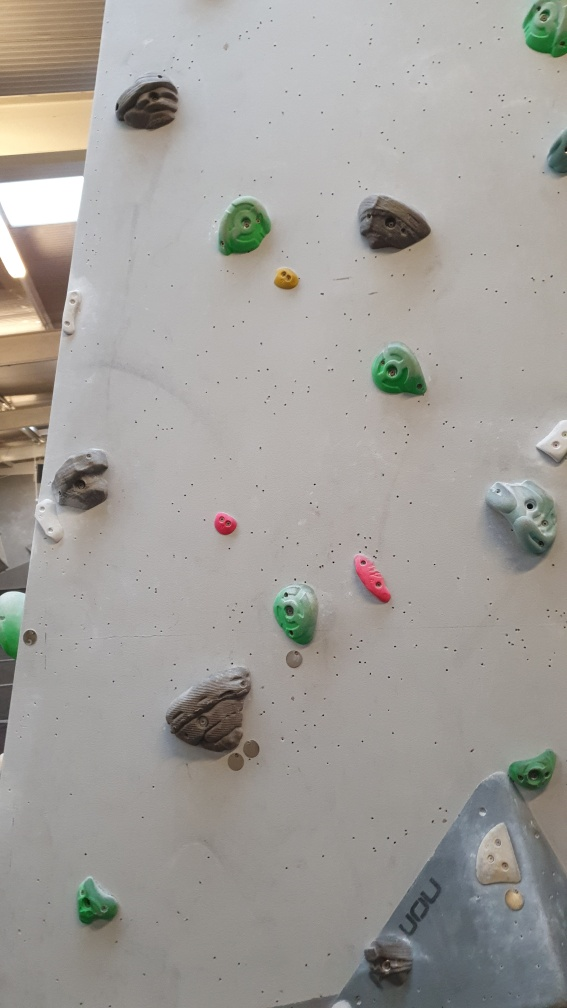Crimp: (475, 818, 520, 888), (354, 553, 397, 603), (33, 496, 65, 550), (538, 414, 567, 469), (61, 289, 85, 336)
Hand Start: (504, 887, 527, 913), (223, 752, 246, 776), (243, 736, 265, 759), (282, 649, 304, 671), (19, 627, 39, 647)
Jug: (165, 664, 251, 754), (478, 474, 562, 562), (357, 192, 438, 264), (207, 190, 276, 261), (46, 449, 111, 517), (112, 71, 181, 131), (273, 580, 325, 651), (372, 339, 431, 400), (508, 744, 557, 790)
Pinch: (271, 263, 300, 289), (215, 510, 235, 536)
